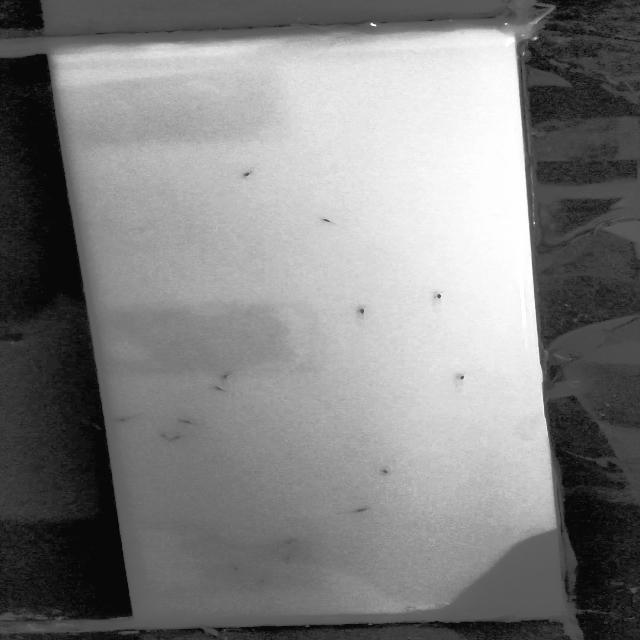shrimp: (303, 206, 345, 232), (338, 503, 387, 521), (446, 369, 480, 388), (421, 286, 453, 306), (108, 409, 142, 426), (250, 574, 283, 590), (208, 368, 240, 383), (373, 463, 398, 482), (352, 302, 375, 322), (217, 561, 247, 576), (231, 166, 263, 180), (204, 381, 237, 394), (170, 414, 197, 428), (274, 552, 298, 565), (272, 538, 302, 548), (150, 430, 174, 441), (173, 432, 188, 444)
